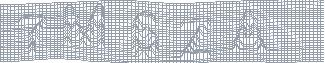6: (129, 10, 161, 60)
7: (16, 12, 48, 59)
A: (230, 9, 269, 56)
M: (61, 3, 107, 50)
Z: (178, 18, 213, 60)
